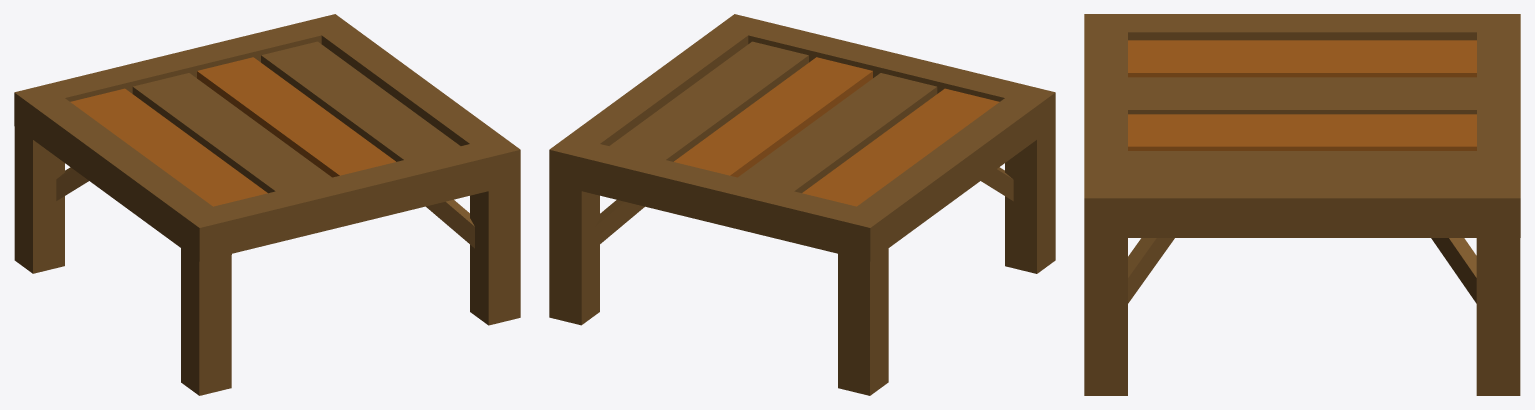
File: FourWayFilled.fbx
The picture shows the model from 3 angles, left to right: view 1: azimuth 30°, elevation 25°; view 2: azimuth 150°, elevation 25°; view 3: azimuth 270°, elevation 25°; orthographic projection. The views are drawn at different scales.
Visible parts, largest first — view 1: Bridge - Four-Way Filled; view 2: Bridge - Four-Way Filled; view 3: Bridge - Four-Way Filled.
Part boxes in pixels (box(x1,y1,x2,y2)): Bridge - Four-Way Filled: box(14, 14, 520, 395); Bridge - Four-Way Filled: box(549, 14, 1055, 395); Bridge - Four-Way Filled: box(1084, 14, 1520, 395).
Size of the model in its own units: 100 by 50 by 100.
